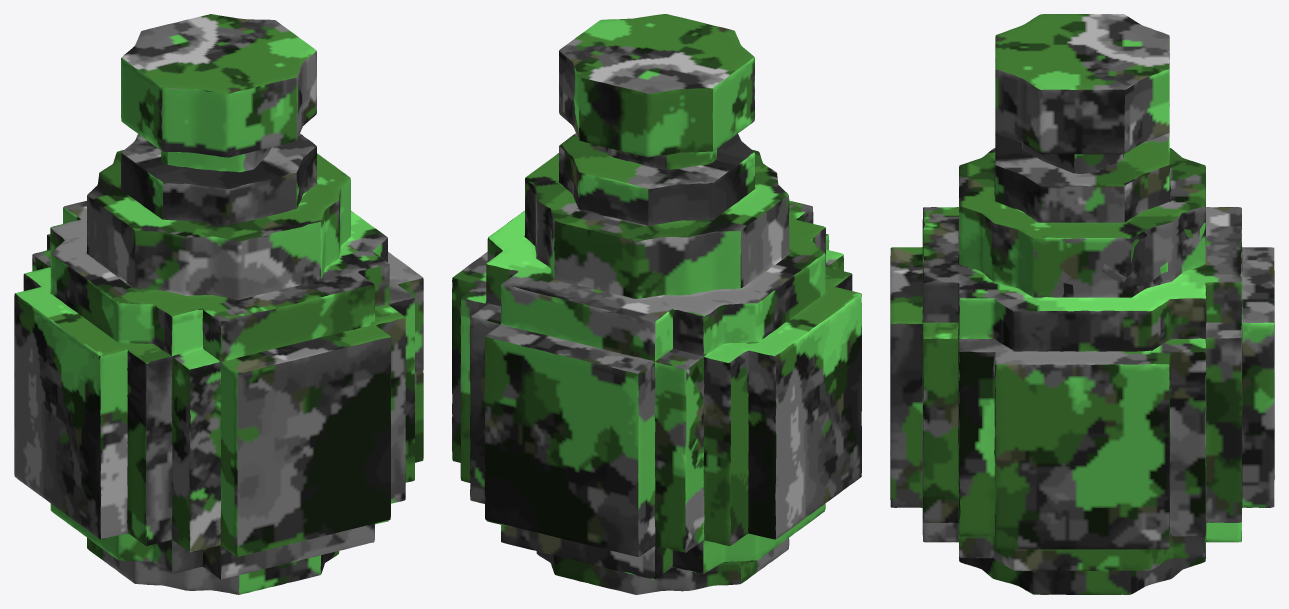
Rendered from BON1A0.obj.
The picture shows the model from 3 angles, left to right: view 1: azimuth 30°, elevation 25°; view 2: azimuth 150°, elevation 25°; view 3: azimuth 270°, elevation 25°; orthographic projection.
Visible parts, largest first — view 1: geometry_0; view 2: geometry_0; view 3: geometry_0.
Boxes of the visible parts, left/top/right/bottom form: geometry_0: left=14, top=14, right=423, bottom=594; geometry_0: left=452, top=14, right=861, bottom=594; geometry_0: left=890, top=14, right=1274, bottom=594.
Bounding box in the file's own units: 0.6987 × 1 × 0.7119.
Materials: 1 (1 with a texture image).
